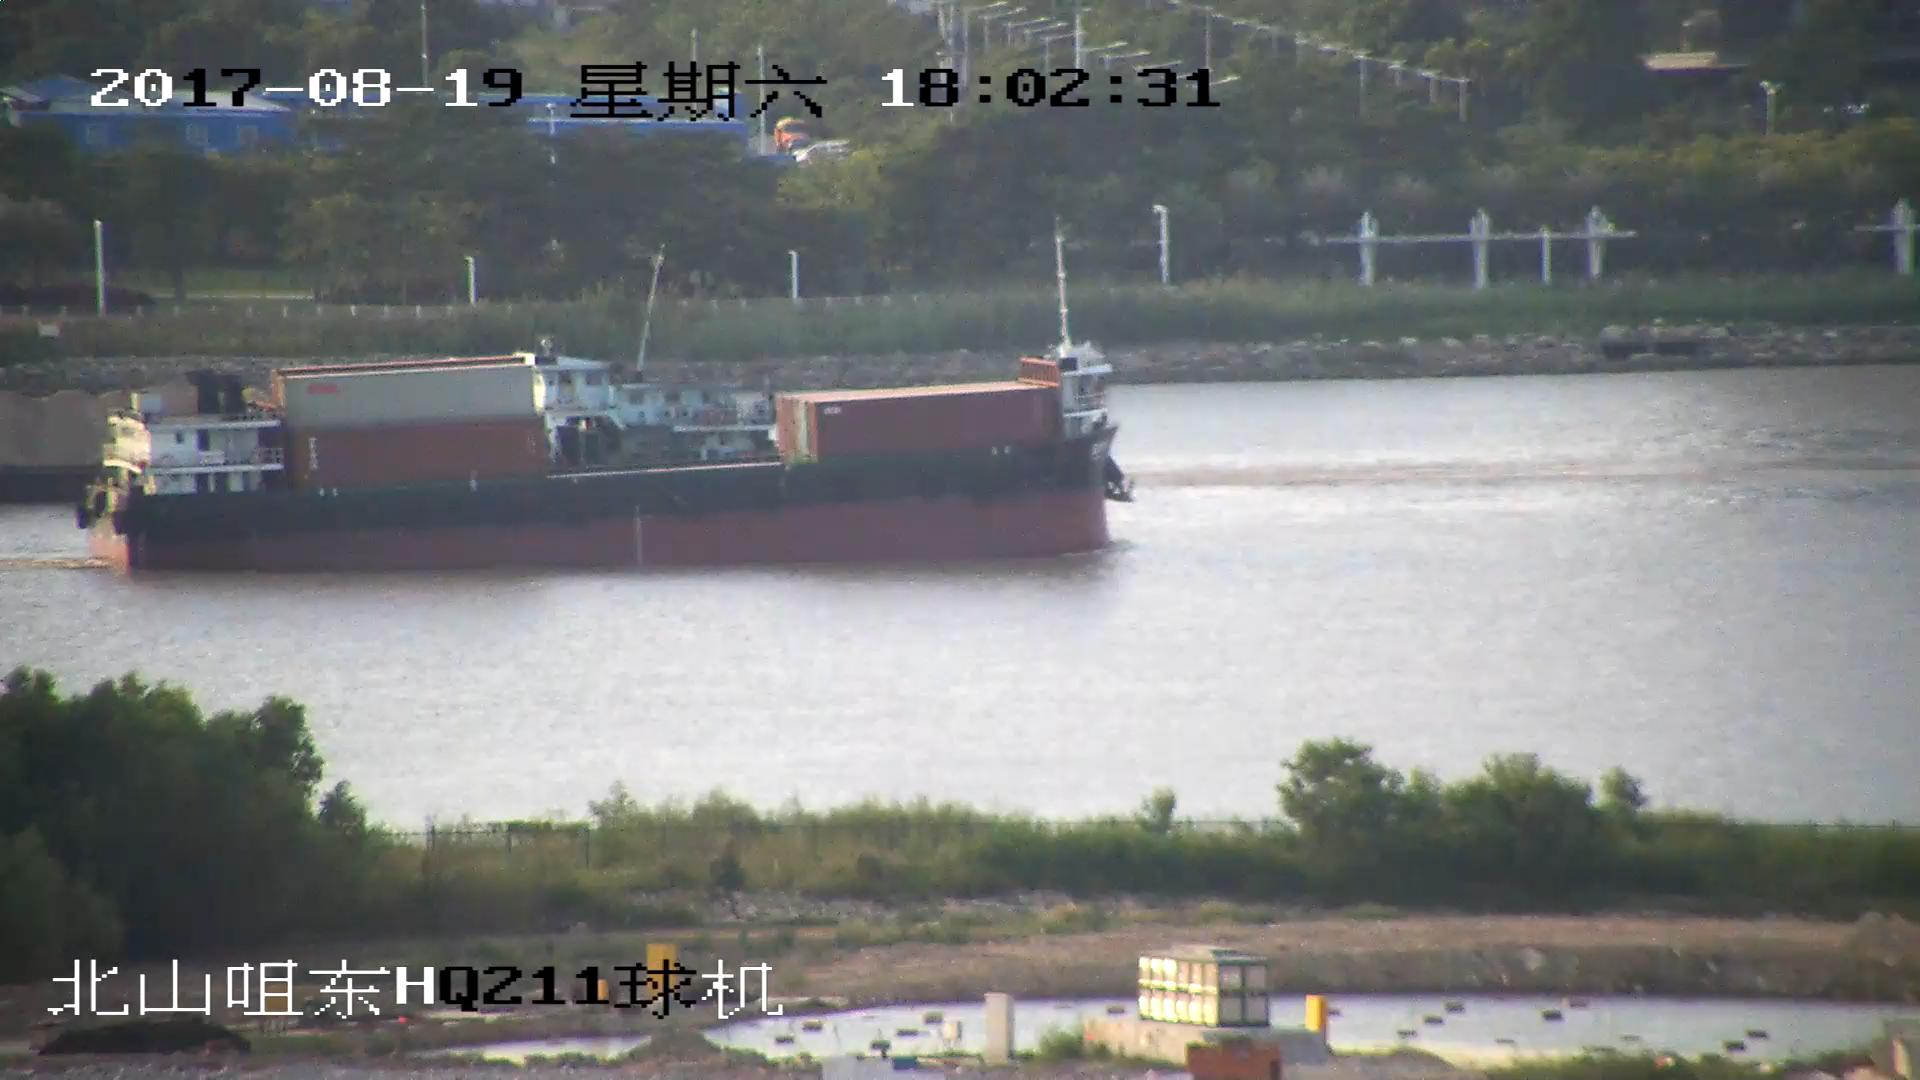container ship: (90, 332, 1133, 569)
